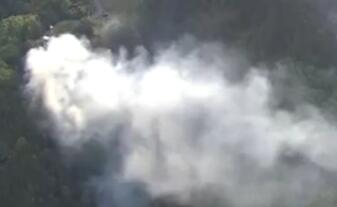smoke: (23, 33, 336, 206)
